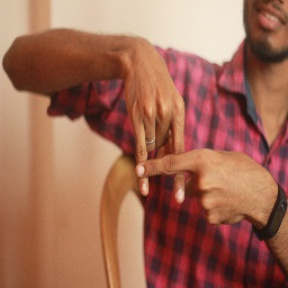H: (111, 99, 212, 206)
